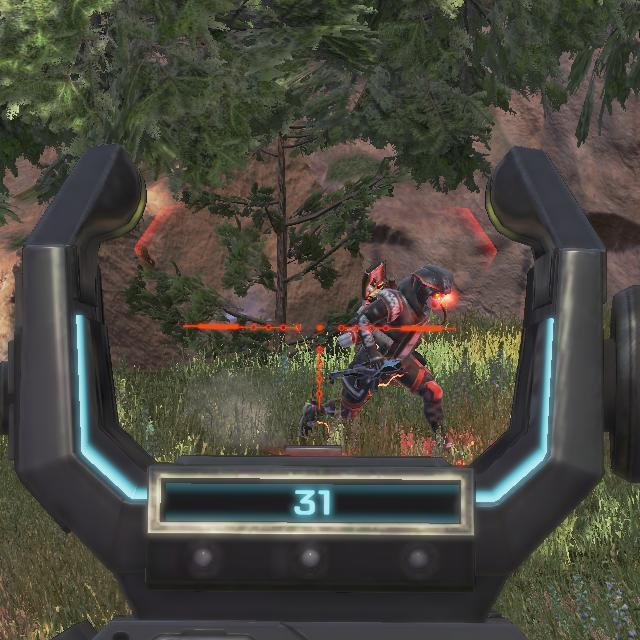avatar: (335, 260, 456, 438)
